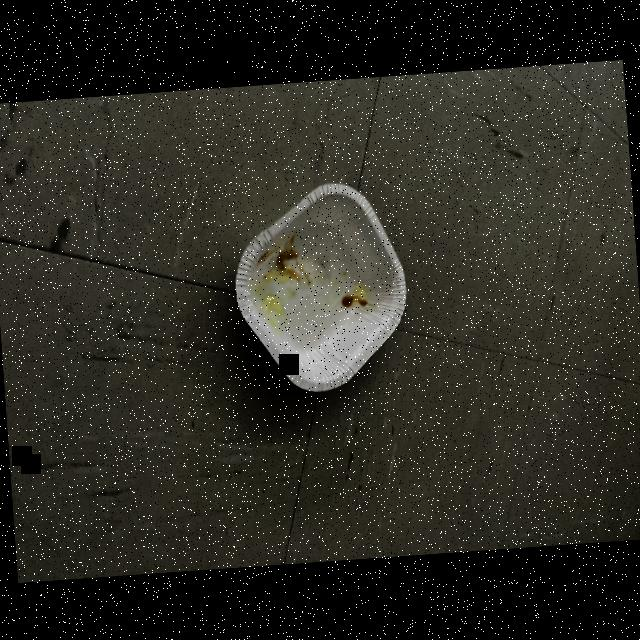cardboard_bowl: (209, 160, 426, 414)
